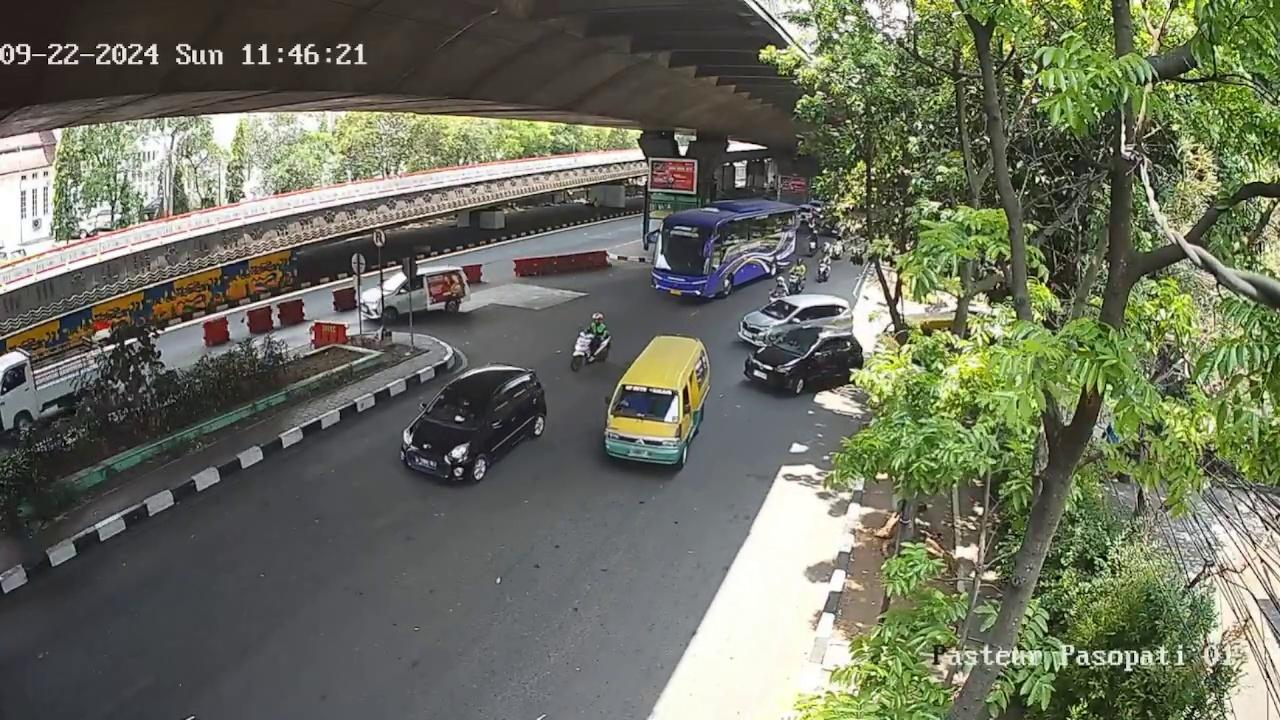tidak-pakai: (628, 392, 653, 412)
windshield: (615, 385, 679, 423), (425, 391, 487, 427), (762, 299, 796, 319)
